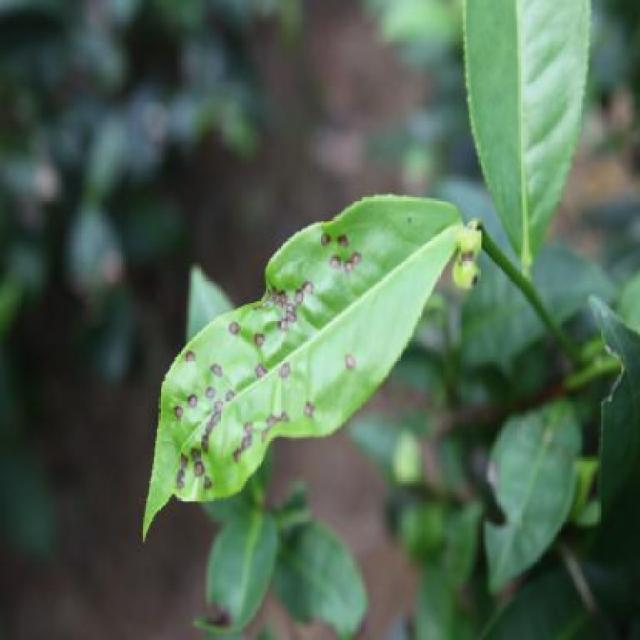Tea Mosquito bug infested leaf: (132, 189, 494, 520)
